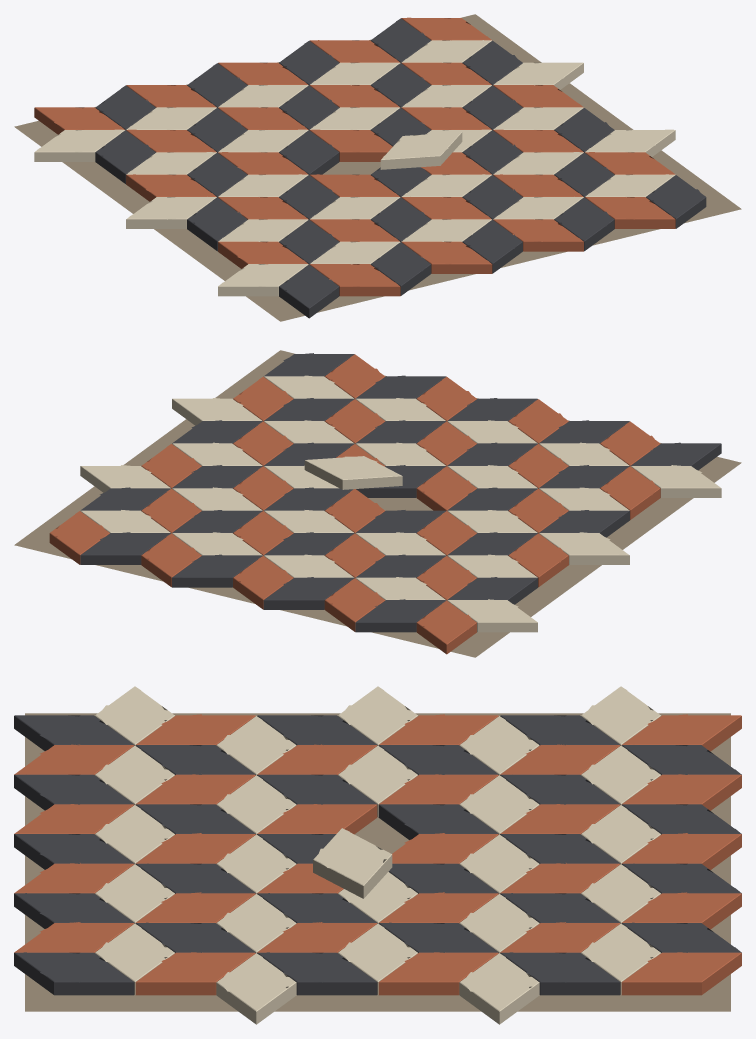
File: terilgan.glb
3 renders of one model, top to bottom at view 1: azimuth 30°, elevation 25°; view 2: azimuth 150°, elevation 25°; view 3: azimuth 270°, elevation 25°, orthographic. The views are drawn at different scales.
Parts seen in each view (by area): view 1: qum, t.042, t.068, t.071, t.065, t.074, t.009, t.066, t.077, t.037, t.030, t.078 (+68 smaller); view 2: qum, t.042, t.001, t.003, t.009, t.005, t.007, t.065, t, t.037, t.002, t.008 (+67 smaller); view 3: qum, t.008, t.078, t.036, t.050, t.022, t.064, t.035, t.063, t.042, t.002, t.069 (+68 smaller).
Part boxes in pixels (<box>): qum: <box>14,14,741,321</box>; t.042: <box>380,132,462,169</box>; t.068: <box>309,264,400,296</box>; t.071: <box>401,241,492,273</box>; t.065: <box>218,264,308,296</box>; t.074: <box>493,219,583,251</box>; t.009: <box>34,129,125,161</box>; t.066: <box>279,264,339,318</box>; t.077: <box>585,197,675,228</box>; t.037: <box>126,197,216,228</box>; t.030: <box>309,129,392,161</box>; t.078: <box>646,175,706,228</box>; qum: <box>14,350,741,657</box>; t.042: <box>304,456,402,489</box>; t.001: <box>355,599,446,632</box>; t.003: <box>263,577,354,609</box>; t.009: <box>447,599,537,632</box>; t.005: <box>172,554,262,587</box>; t.007: <box>80,532,170,564</box>; t.065: <box>630,465,721,497</box>; t: <box>416,600,476,654</box>; t.037: <box>539,532,629,564</box>; t.002: <box>324,578,385,631</box>; t.008: <box>49,511,109,564</box>; qum: <box>25,713,730,1011</box>; t.008: <box>621,952,741,995</box>; t.078: <box>14,952,134,995</box>; t.036: <box>378,952,498,995</box>; t.050: <box>257,952,377,995</box>; t.022: <box>500,952,620,995</box>; t.064: <box>135,952,255,995</box>; t.035: <box>459,953,539,1024</box>; t.063: <box>216,953,296,1024</box>; t.042: <box>313,828,392,898</box>; t.002: <box>622,774,741,810</box>; t.069: <box>14,774,133,810</box>.
Size of the model in its own units: 1.81 by 0.072 by 1.71.
